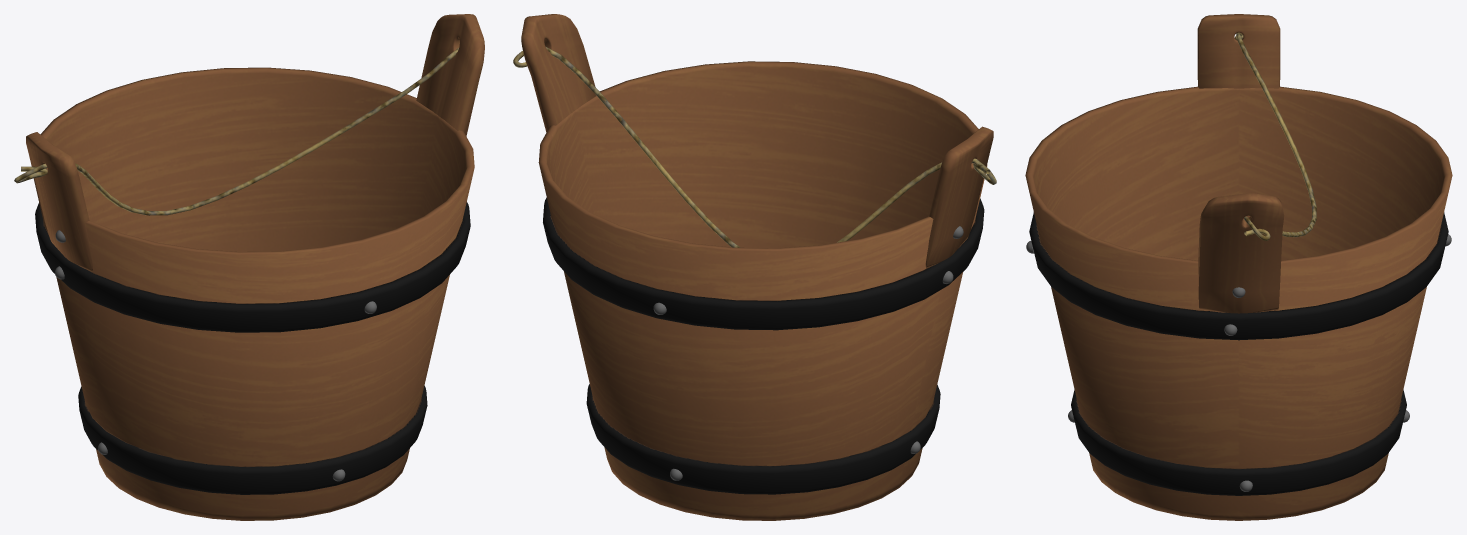
The model's file is WaterBucket.fbx.
3 renders of one model, left to right at view 1: azimuth 30°, elevation 25°; view 2: azimuth 150°, elevation 25°; view 3: azimuth 270°, elevation 25°, orthographic. The views are drawn at different scales.
Visible parts, largest first — view 1: WaterBucket_Baked; view 2: WaterBucket_Baked; view 3: WaterBucket_Baked.
Part boxes in pixels (x1,y1,x2,y2): WaterBucket_Baked: (14,14,484,520); WaterBucket_Baked: (513,14,996,520); WaterBucket_Baked: (1025,14,1452,520).
Bounding box in the file's own units: 84.96 × 66.37 × 69.96.
